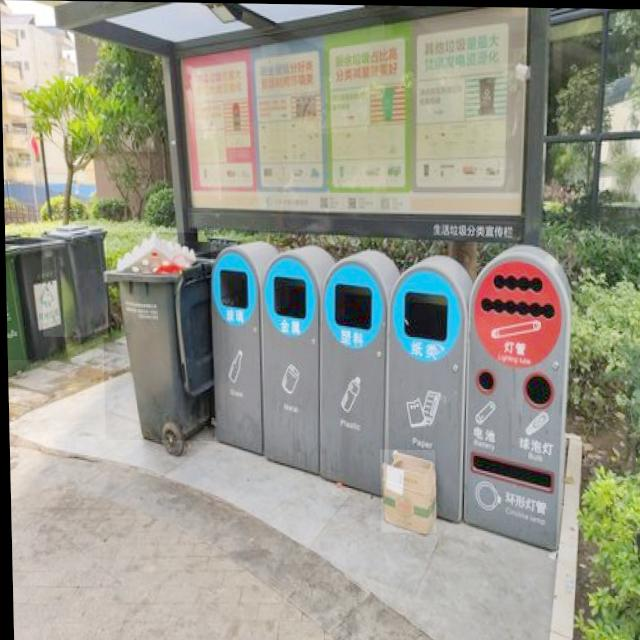garbage: (378, 448, 434, 532)
garbage_bin: (4, 232, 66, 361), (40, 224, 107, 337)
overflow: (100, 232, 213, 441)
